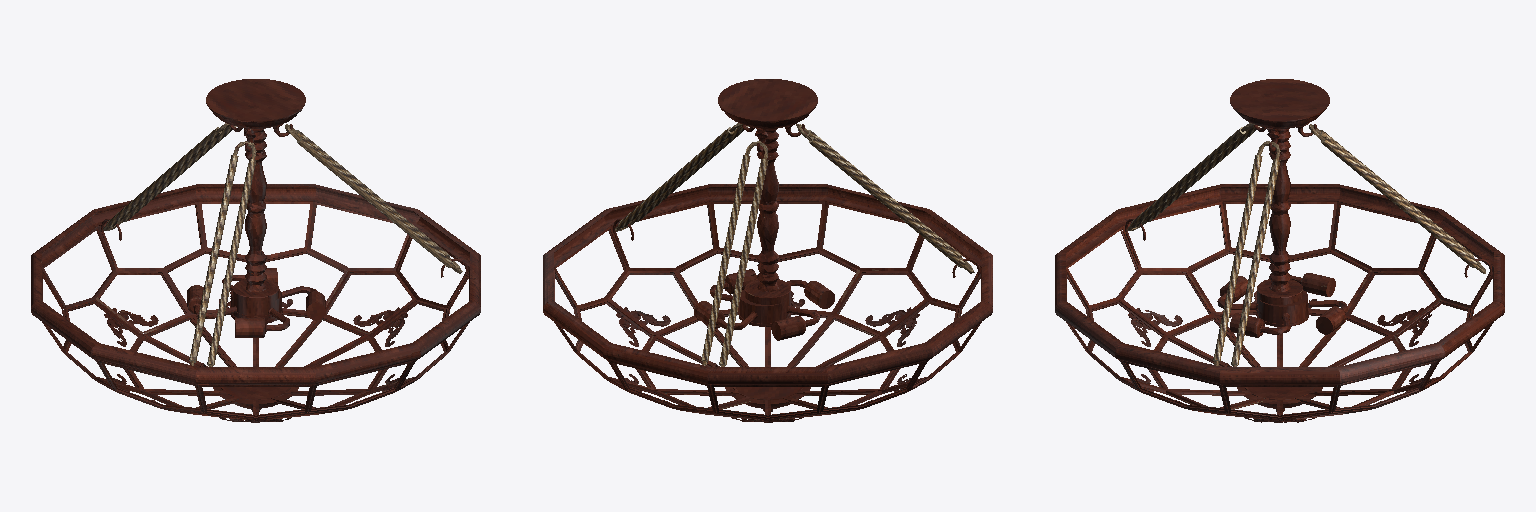
3 views of the same model, side by side, from view 1: azimuth 30°, elevation 25°; view 2: azimuth 150°, elevation 25°; view 3: azimuth 270°, elevation 25° (orthographic).
Parts seen in each view (by area): view 1: solid_001, solid_002; view 2: solid_001, solid_002; view 3: solid_001, solid_002.
Part boxes in pixels (x1,y1,x2,y2): solid_001: (31,79,480,422); solid_002: (103,123,462,366); solid_001: (543,79,992,422); solid_002: (615,123,974,366); solid_001: (1055,79,1504,422); solid_002: (1127,123,1485,366).
Bounding box in the file's own units: 0.5859 × 0.4479 × 0.5859.
1 materials, 1 textured.